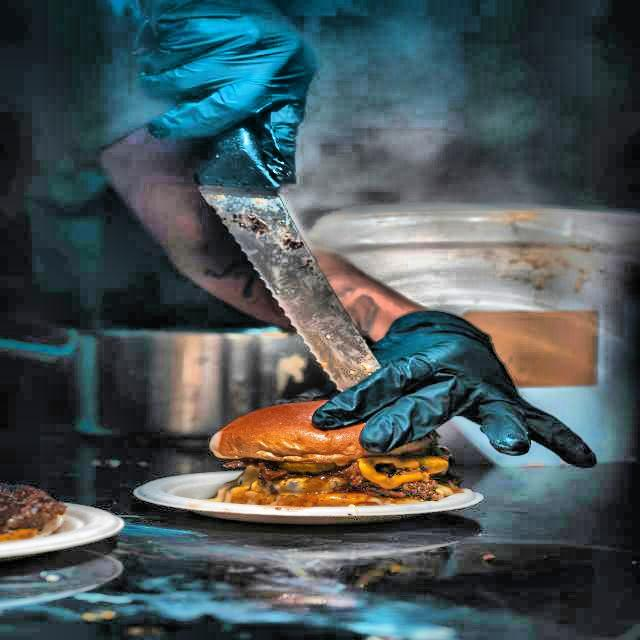knife: (75, 0, 392, 406)
